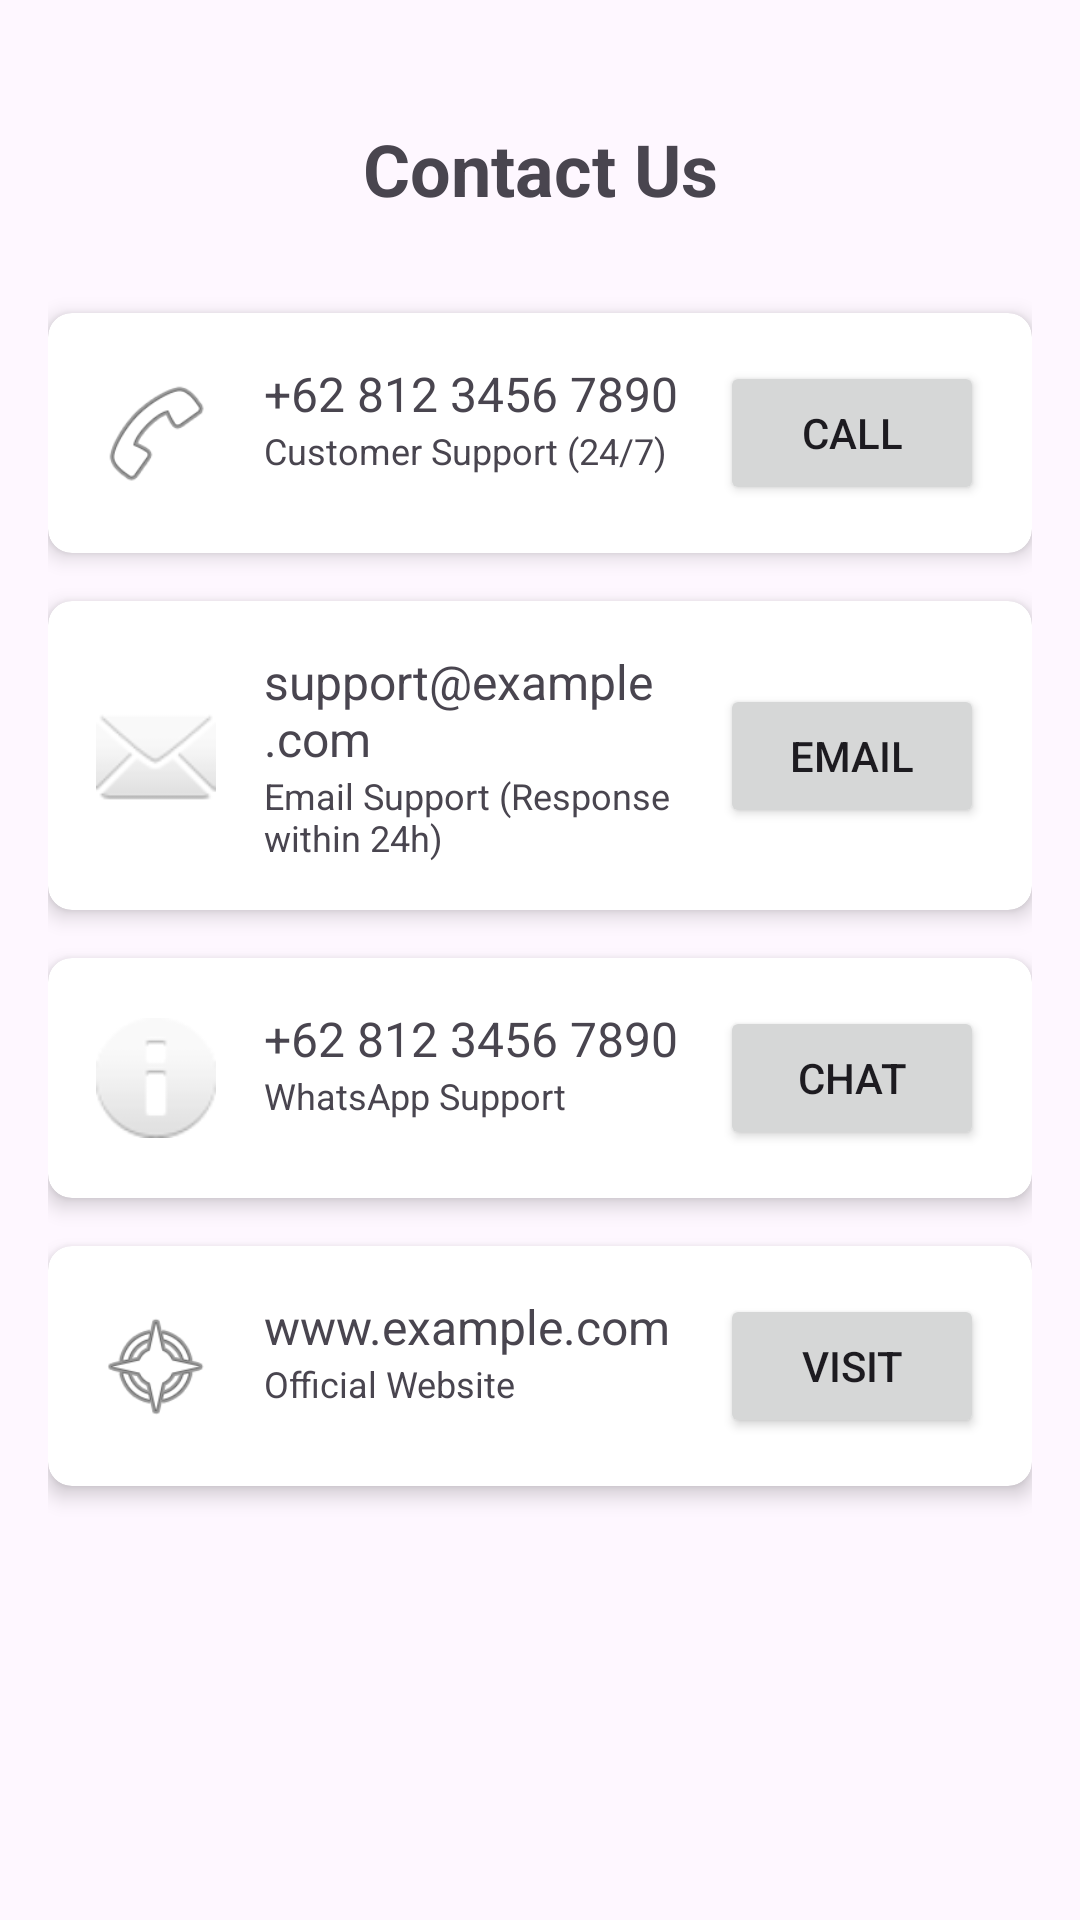

Named icons in this screenshot (1080 x 1920) and their bounding boxes, rect(x1, y1, x2, y2):
call: rect(110, 387, 204, 481)
compass: rect(108, 1319, 203, 1414)
info: rect(96, 1040, 216, 1138)
